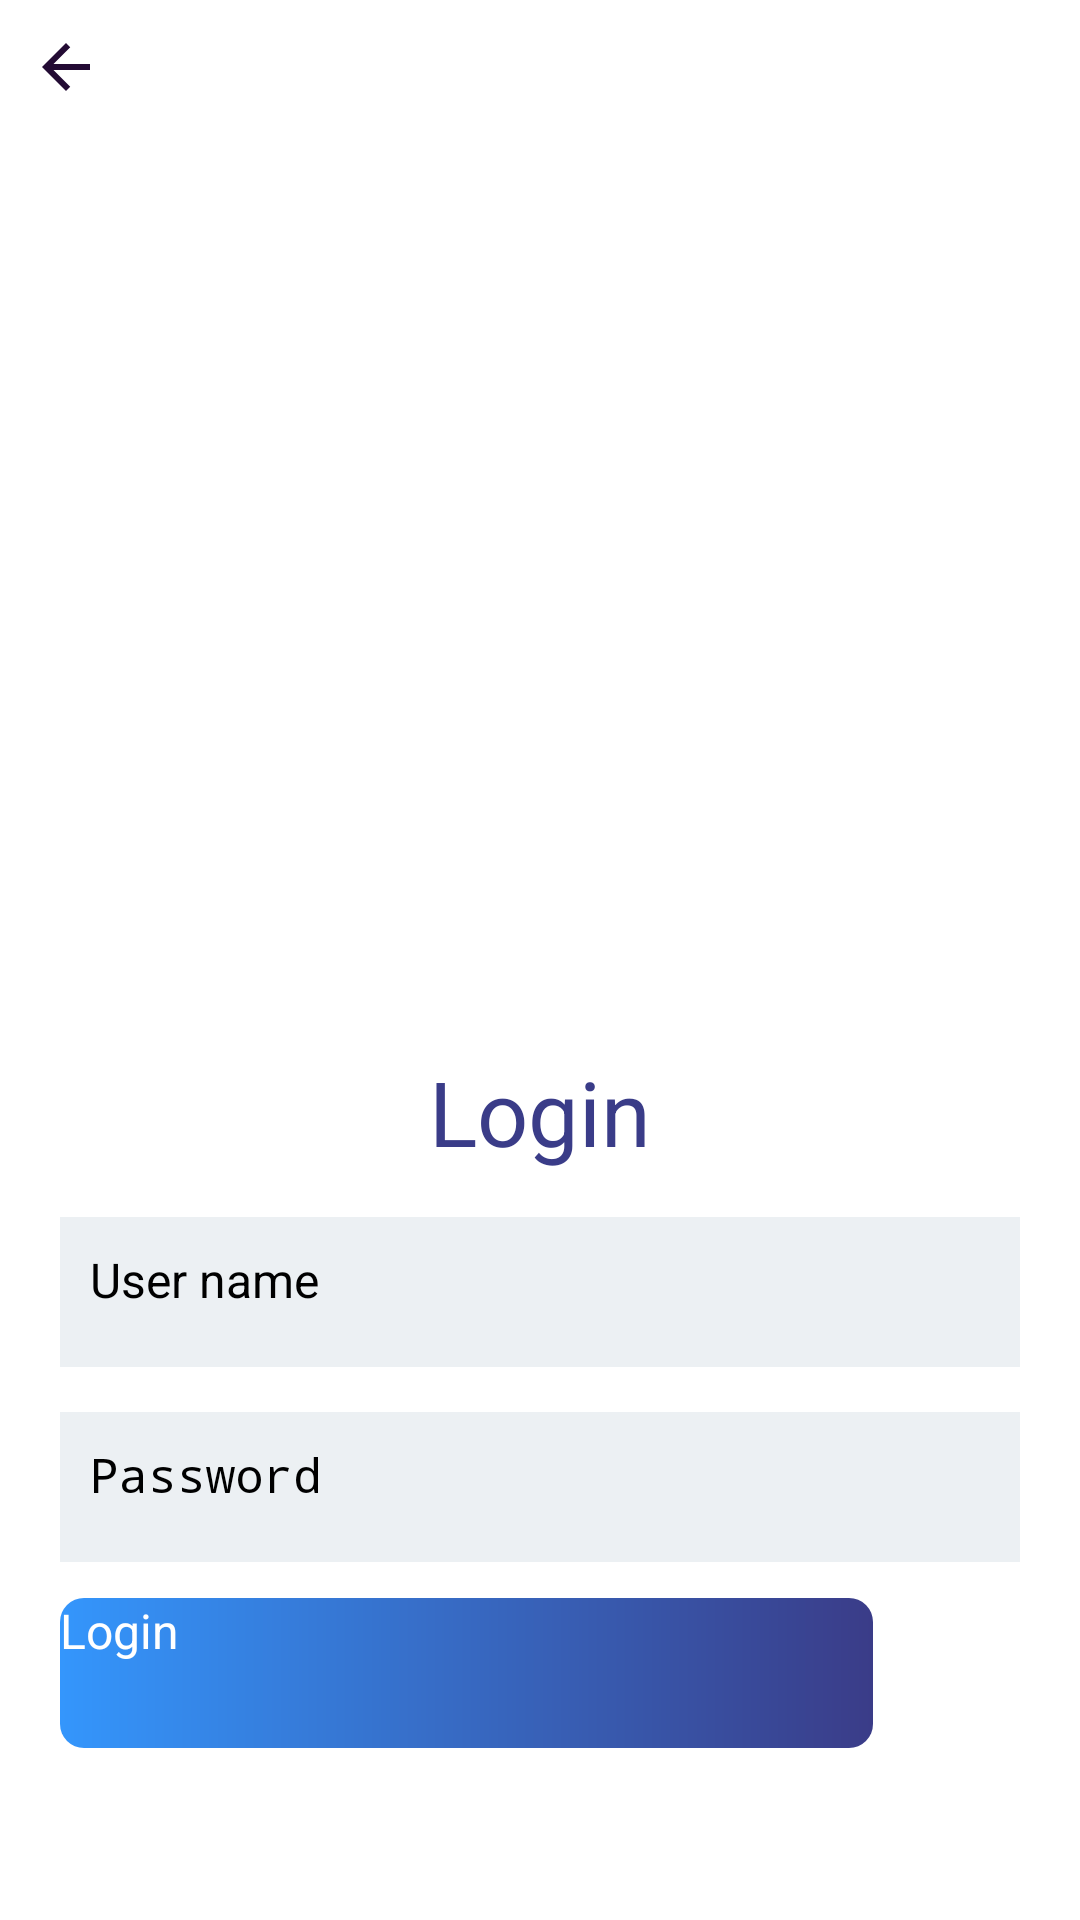

Icons on this 1080w x 1920h Android screen, each with the point to tap as point (x, y):
Back: point (66, 67)
